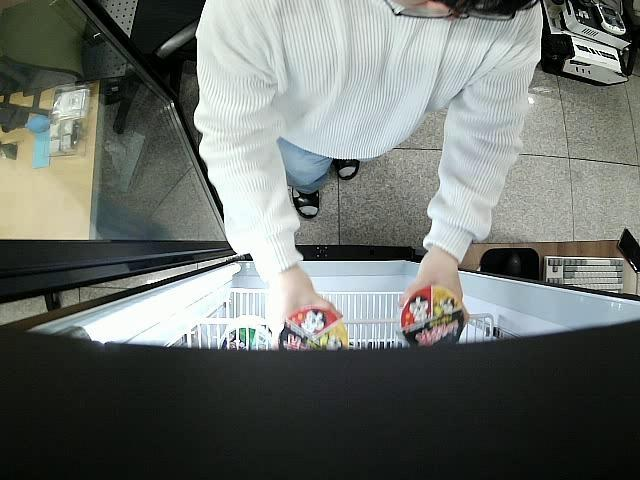08_buldak_S: (397, 285, 465, 349), (278, 306, 349, 350)
